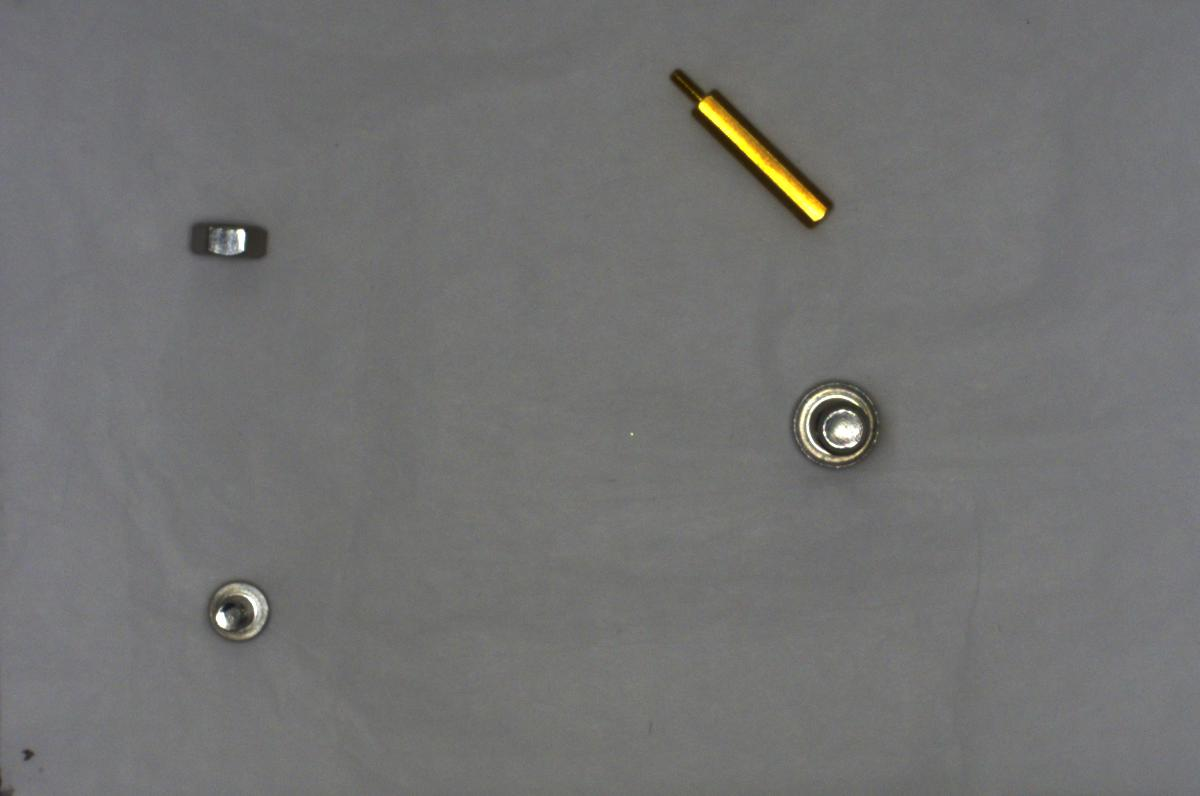Hexagon nut: (187, 205, 278, 273)
Hexagon pillar: (665, 61, 831, 234)
Hexagon screw: (791, 372, 881, 472)
Round head screw: (192, 569, 270, 641)
